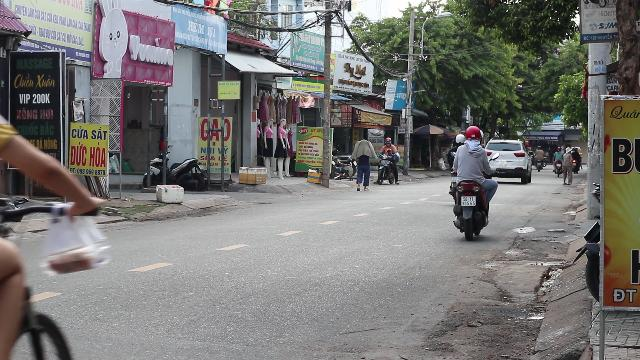helmet: (463, 124, 482, 144)
licenseplate: (460, 196, 476, 206)
motorcyclist: (448, 125, 497, 239)
